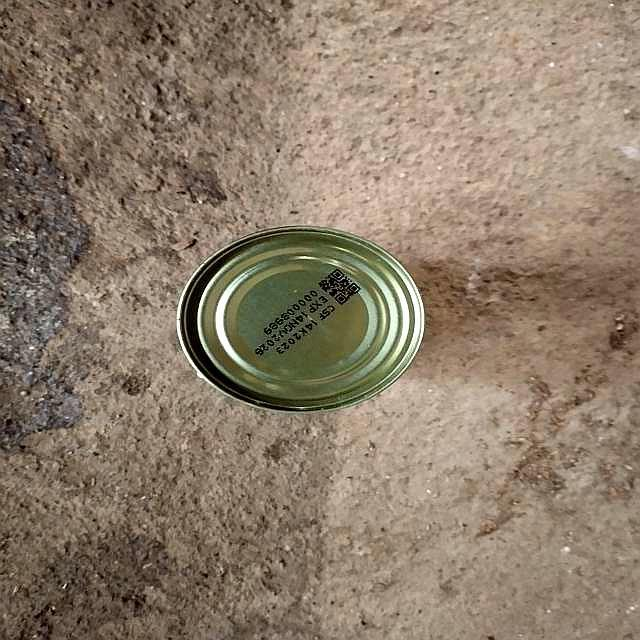Non-biodegradable: (175, 227, 427, 416)
